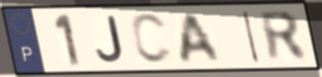1: (52, 12, 83, 68)
A: (178, 12, 224, 65)
C: (129, 11, 176, 66)
I: (241, 9, 262, 65)
J: (94, 14, 127, 65)
R: (256, 9, 311, 64)
